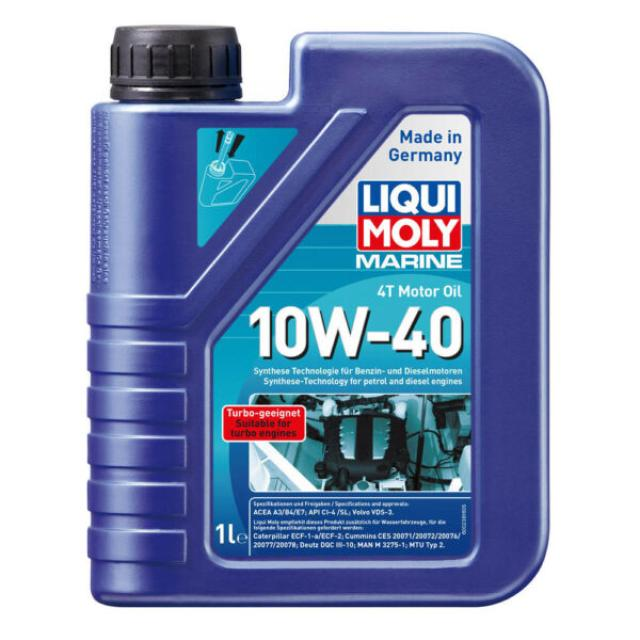motor_oil: (73, 18, 559, 616)
